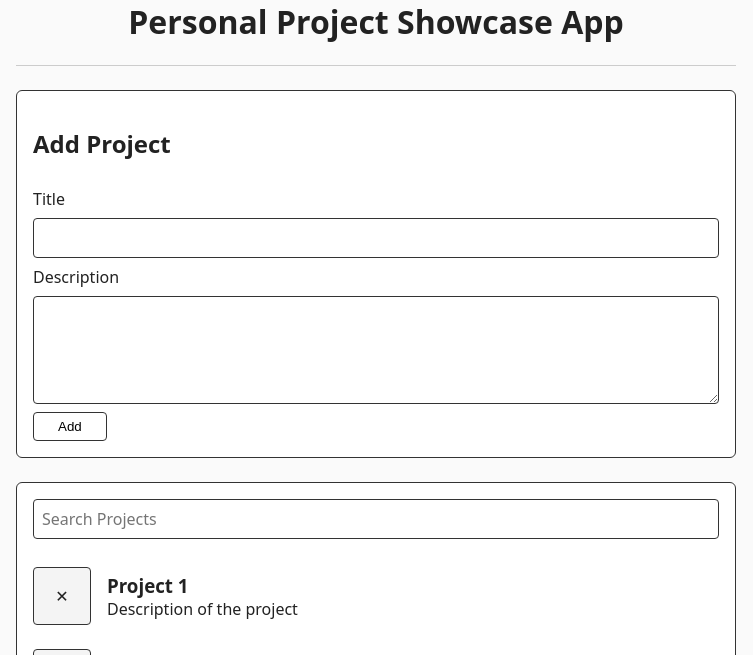
Scenario: Portfolio App › adds a new project through the form
Step 1. Type "My New App" into the field labelled "Title" → (376, 238), box [33,218,719,258]
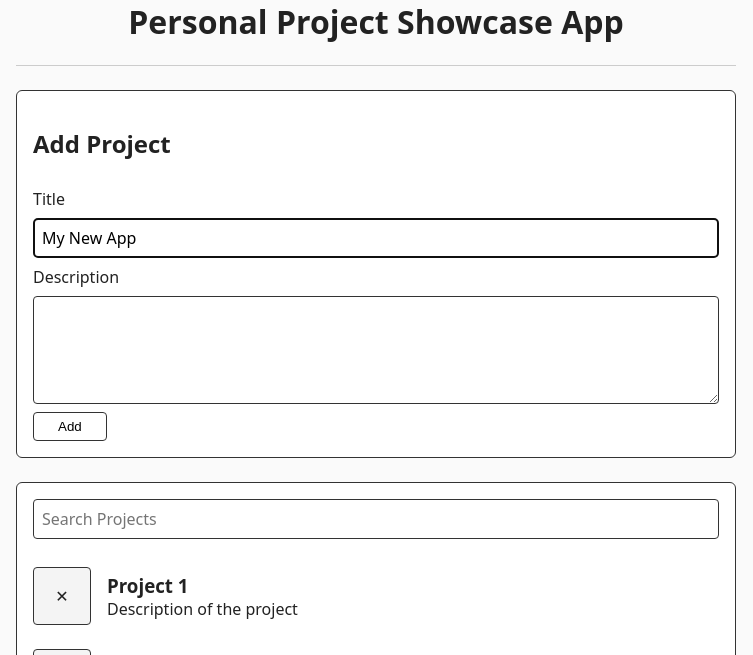
Step 2. Type "A cool thing" into the text box labelled "Description" → (376, 350), box [33,296,719,404]
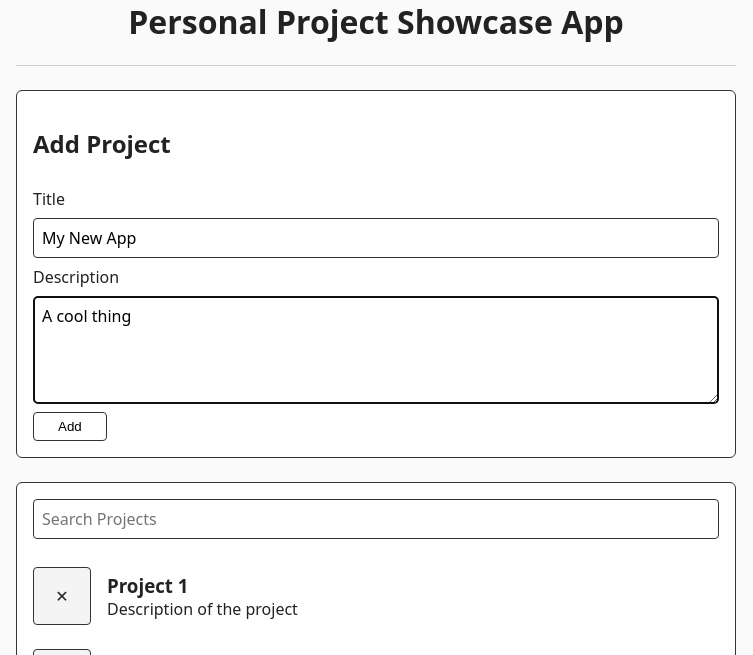
Step 3. Click the button "Add" → (70, 427), box [33,412,107,442]
(page scrolled)
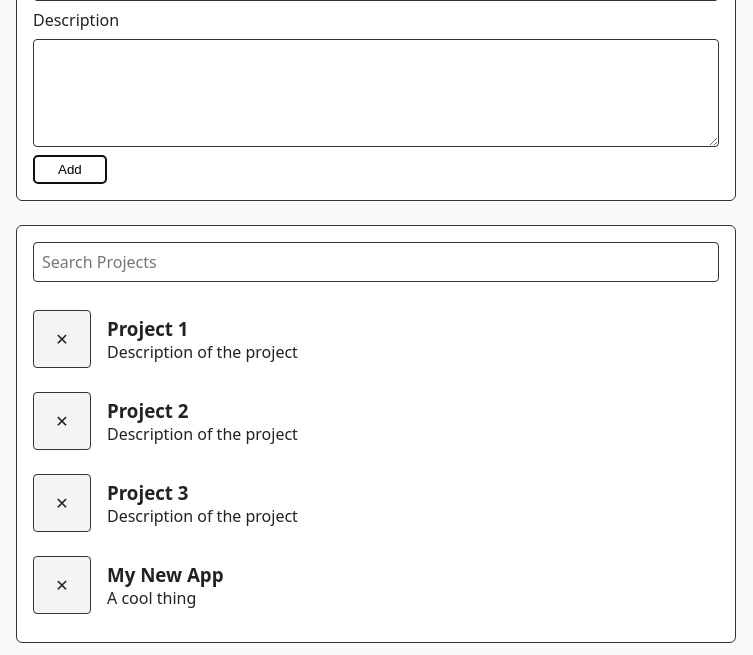
Check: the heading "My New App" is shown, box [107,562,224,587]
Check: the text "A cool thing" is shown, box [107,587,196,609]
